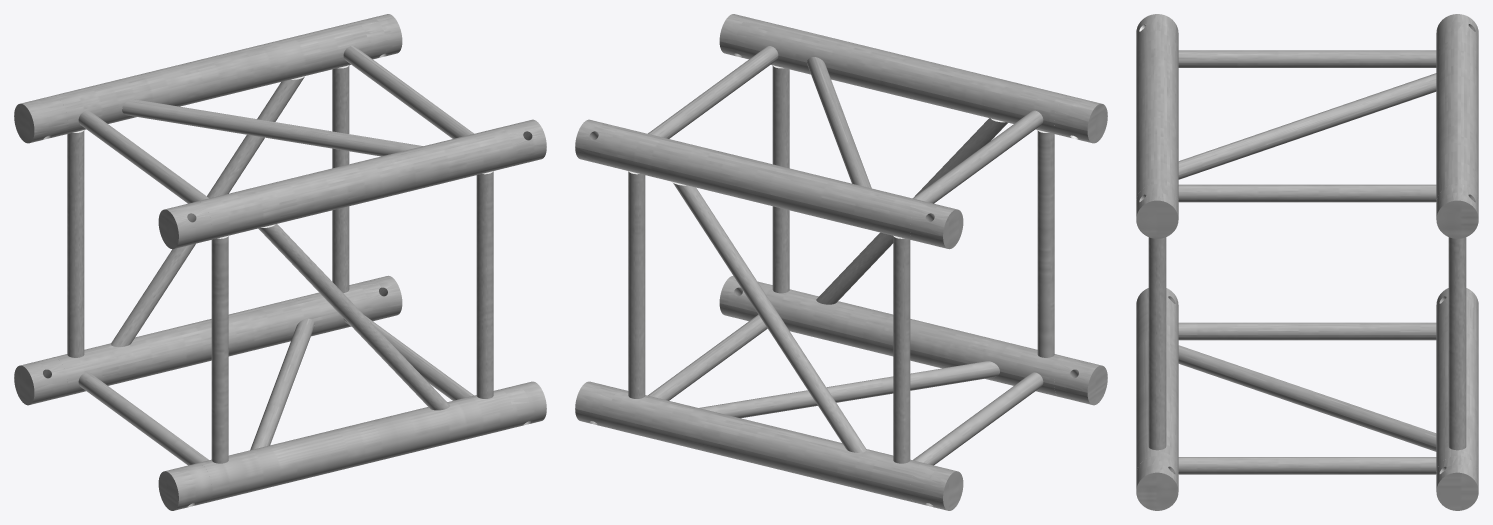
The model's file is Milos_M390L_500_Quattro_Truss_Section-739e2a12.glb.
3 renders of one model, left to right at view 1: azimuth 30°, elevation 25°; view 2: azimuth 150°, elevation 25°; view 3: azimuth 270°, elevation 25°, orthographic. The views are drawn at different scales.
Visible parts, largest first — view 1: Geom3D; view 2: Geom3D; view 3: Geom3D.
Boxes of the visible parts, left/top/right/bottom form: Geom3D: left=14, top=14, right=546, bottom=510; Geom3D: left=575, top=14, right=1107, bottom=510; Geom3D: left=1136, top=14, right=1478, bottom=510.
Bounding box in the file's own units: 0.5 × 0.388 × 0.388.
Materials: 2 (1 with a texture image).
